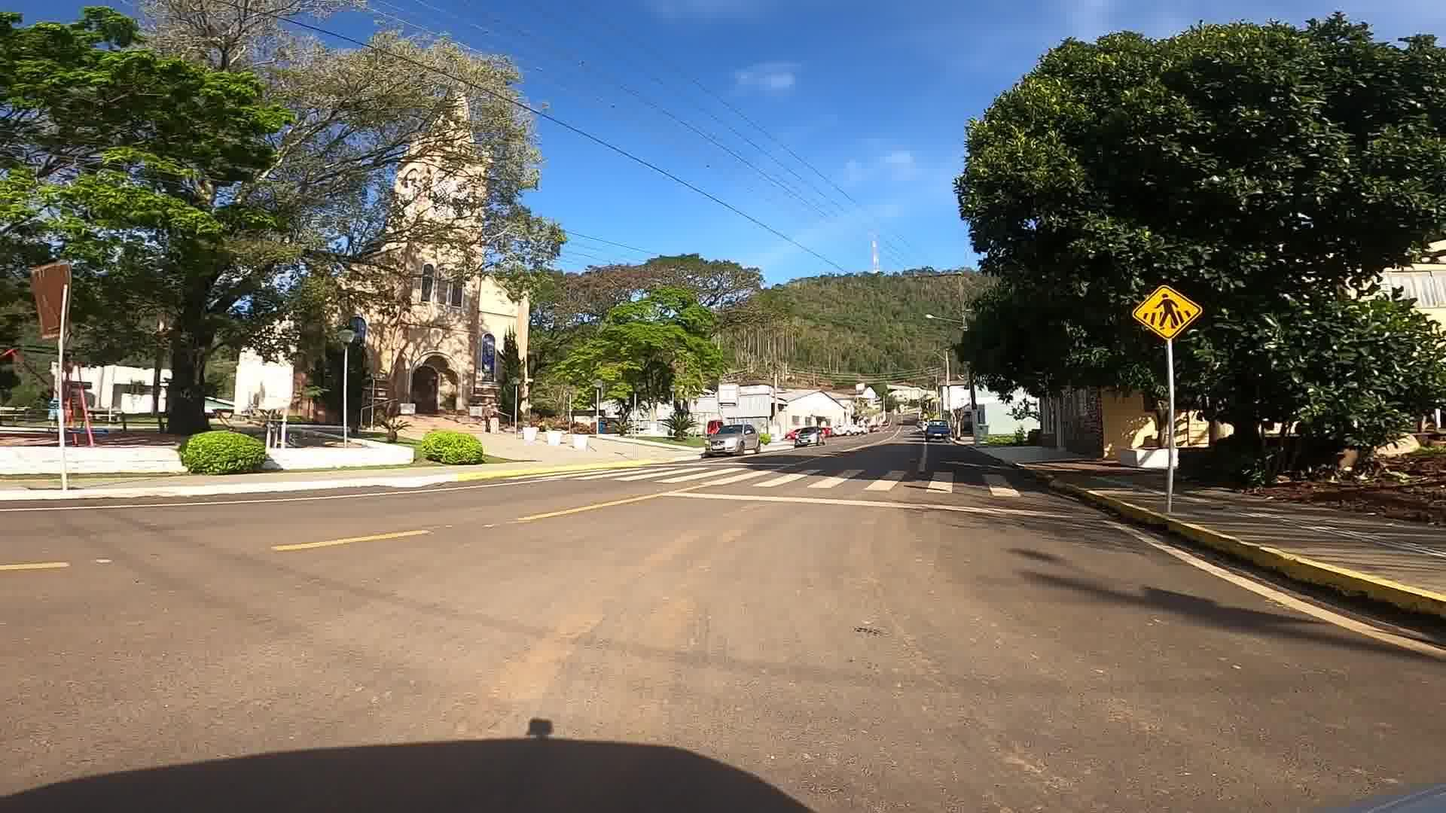A-32b: (1130, 283, 1204, 345)
